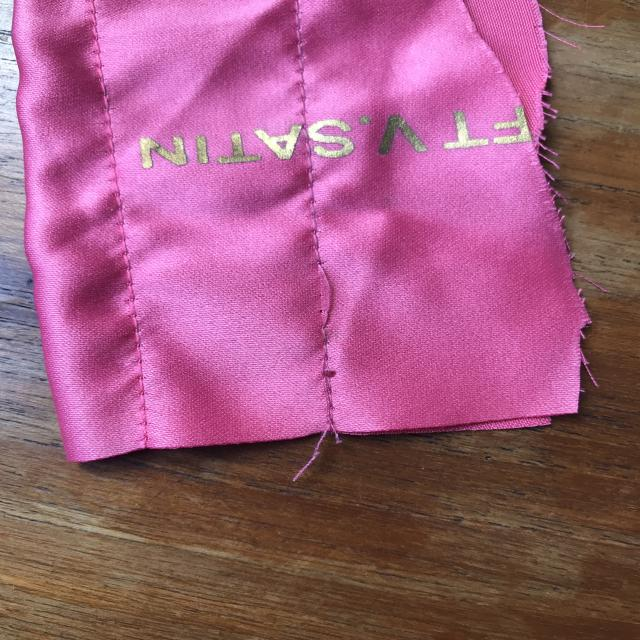skip: (296, 253, 347, 350)
